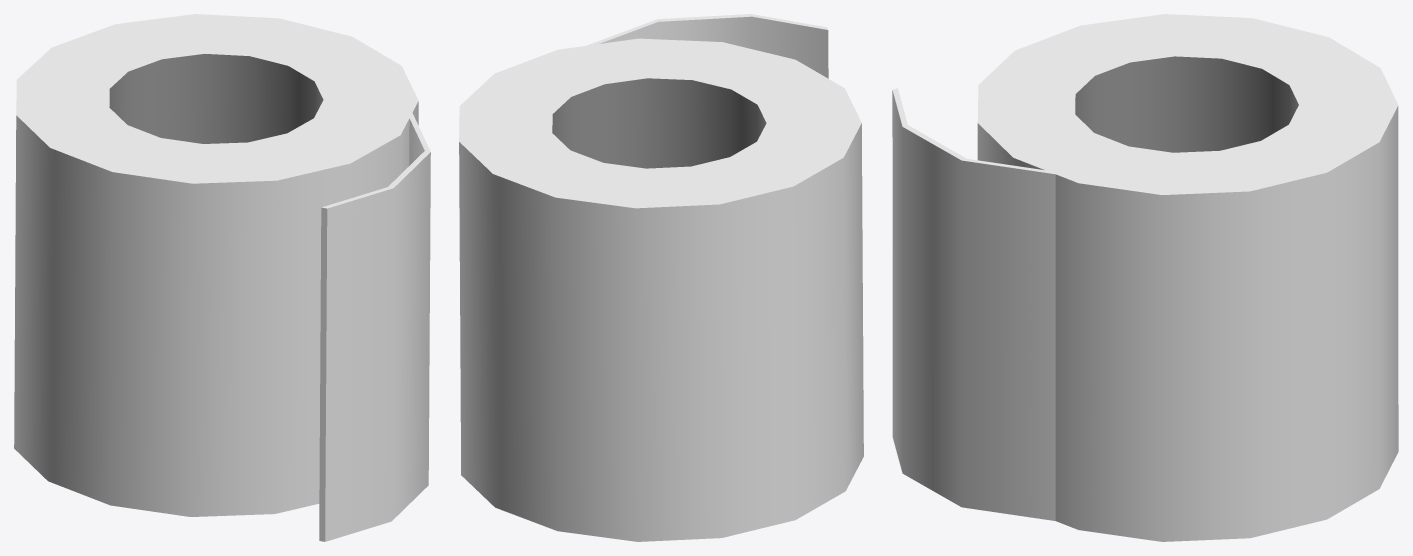
The model's file is tuvaletKagidi.fbx.
3 views of the same model, side by side, from view 1: azimuth 30°, elevation 25°; view 2: azimuth 150°, elevation 25°; view 3: azimuth 270°, elevation 25° (orthographic). The views are drawn at different scales.
Parts seen in each view (by area): view 1: tuvaletKagidi; view 2: tuvaletKagidi; view 3: tuvaletKagidi.
Boxes of the visible parts, bbox=[...] form: tuvaletKagidi: bbox=[14, 14, 430, 541]; tuvaletKagidi: bbox=[459, 14, 863, 541]; tuvaletKagidi: bbox=[892, 14, 1398, 541].
Bounding box in the file's own units: 189 × 172 × 224.
